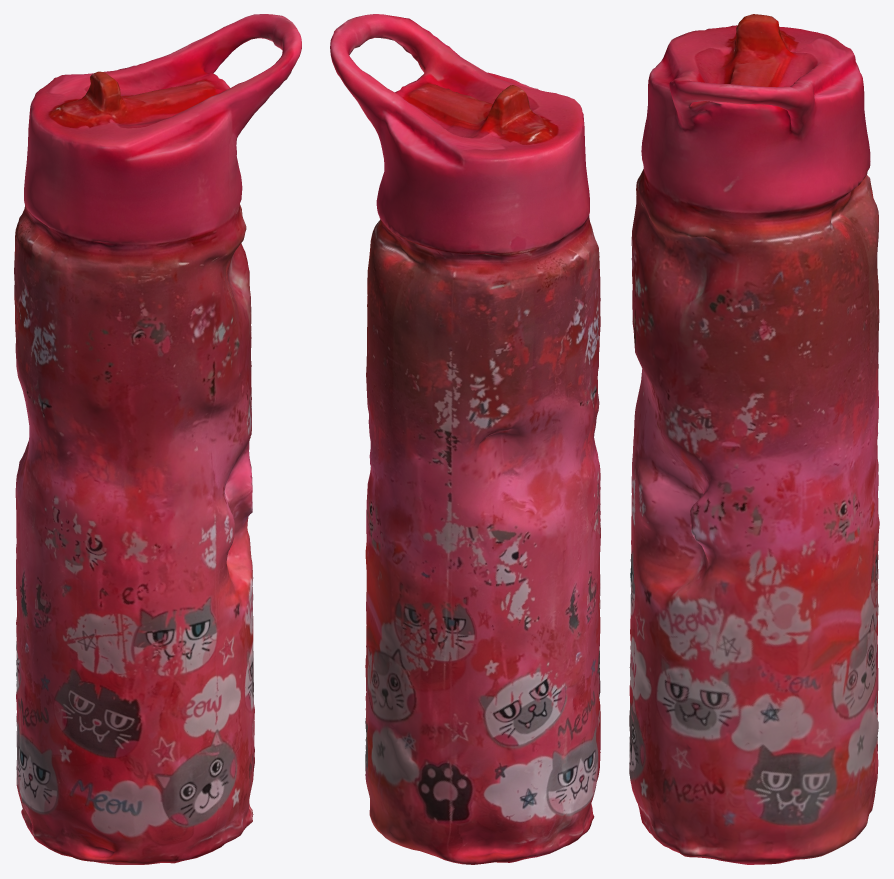
Rendered from arch_bottle.glb.
The picture shows the model from 3 angles, left to right: view 1: azimuth 30°, elevation 25°; view 2: azimuth 150°, elevation 25°; view 3: azimuth 270°, elevation 25°; orthographic projection. The views are drawn at different scales.
Parts seen in each view (by area): view 1: ObjectCapture; view 2: ObjectCapture; view 3: ObjectCapture.
Boxes of the visible parts, box(x1,y1,x2,y2) form: ObjectCapture: box(14, 14, 301, 864); ObjectCapture: box(330, 14, 600, 864); ObjectCapture: box(629, 14, 879, 864).
Bounding box in the file's own units: 0.09 × 0.2602 × 0.073.
Materials: 1 (1 with a texture image).
